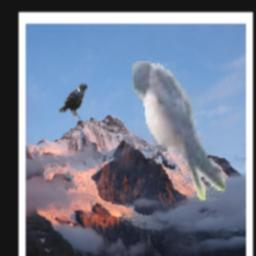Crow: (60, 83, 88, 119)
Swallow: (132, 62, 226, 202)
